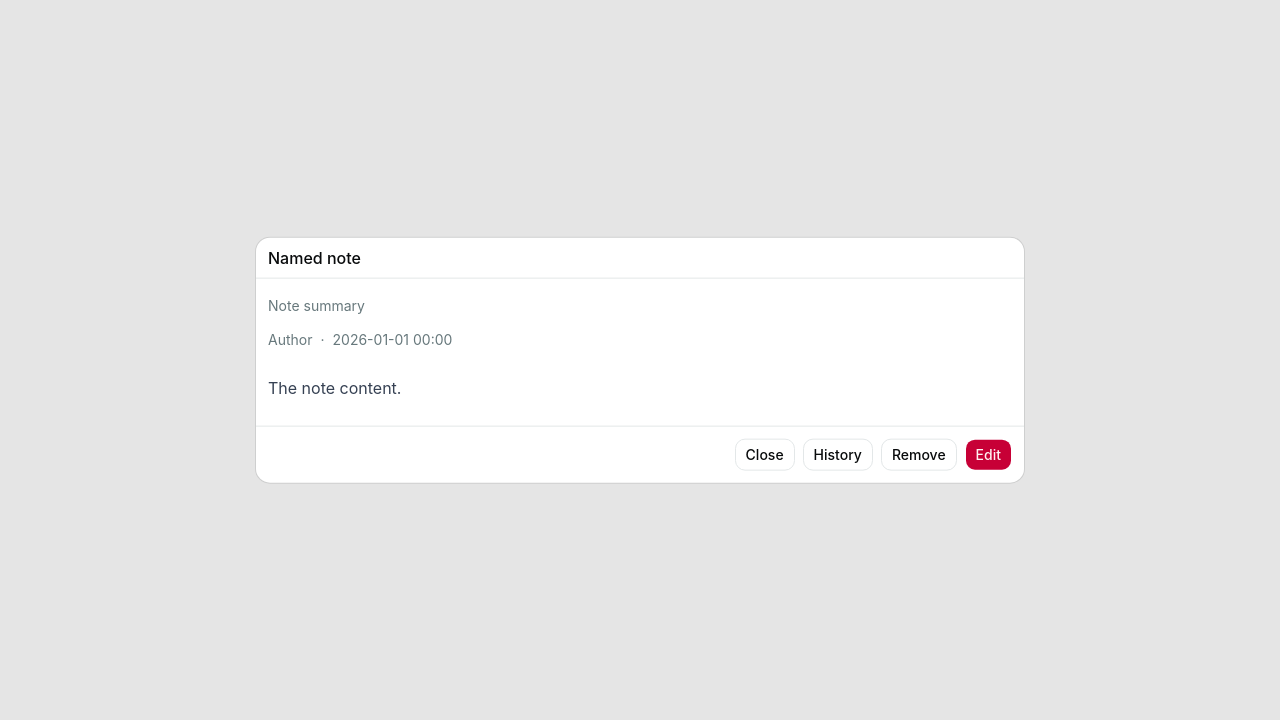
Test: note removal in the mounted resource dialog › navigates to the collection only after confirmed deletion
Click the button "Remove" at (919, 454), box [881,438,957,470]
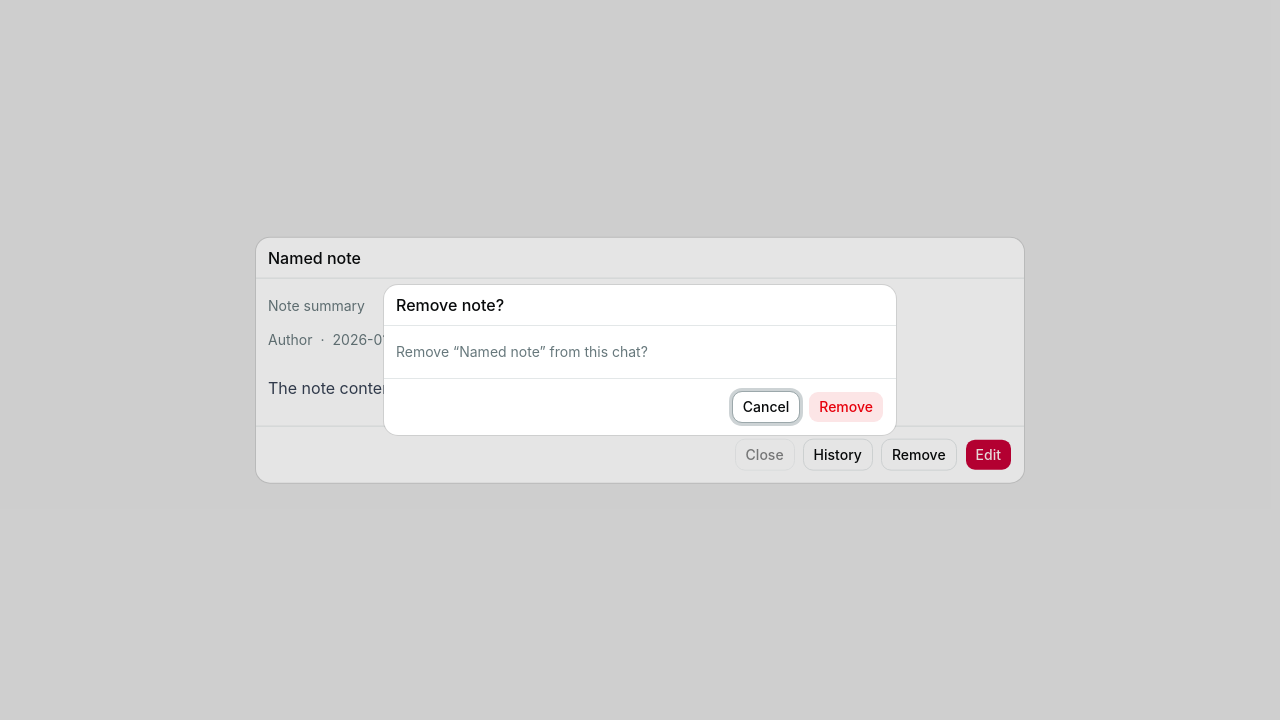
Result: the button "Remove" is shown
Click the button "Remove" at (846, 407), box [808,391,884,423]
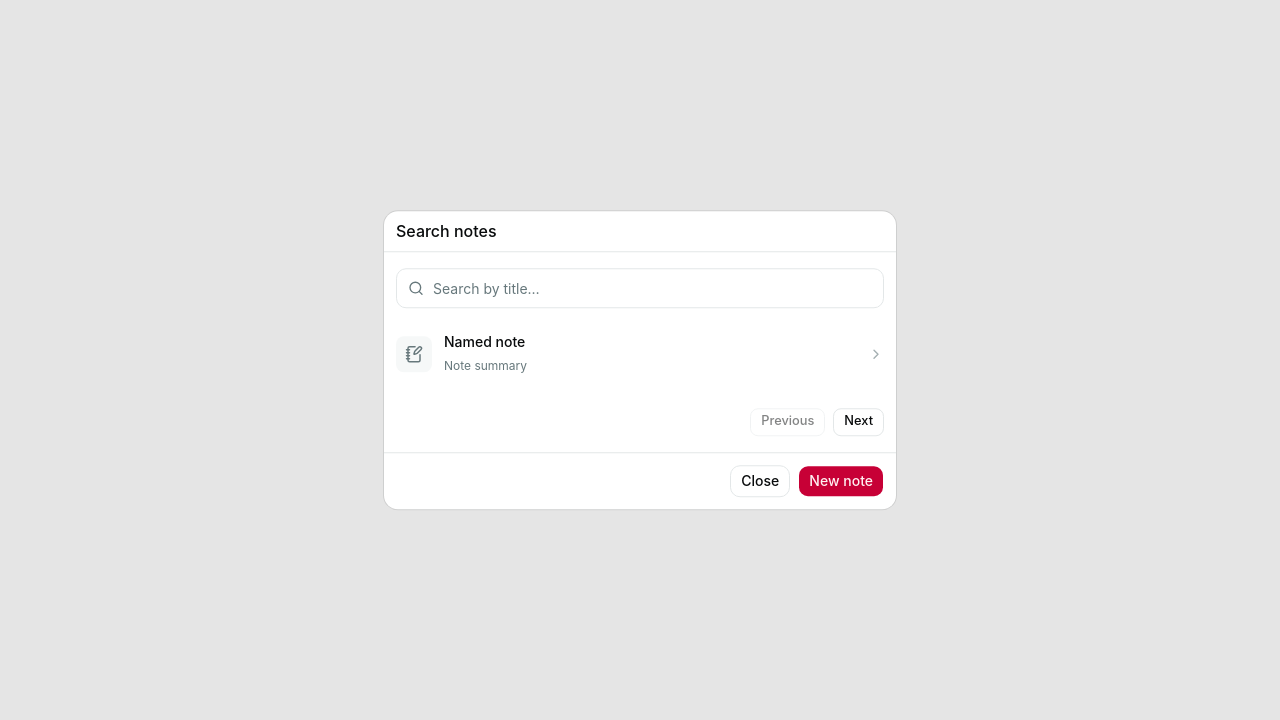
Result: the heading "Search notes" is shown at [396,221,497,241]
